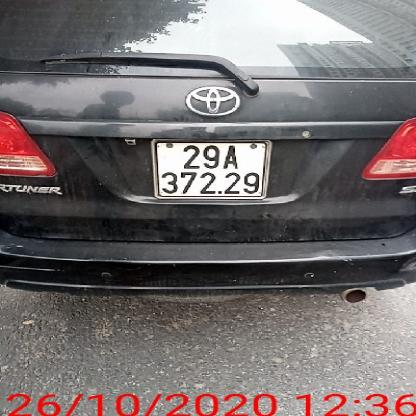biensoxe: (148, 132, 286, 206)
